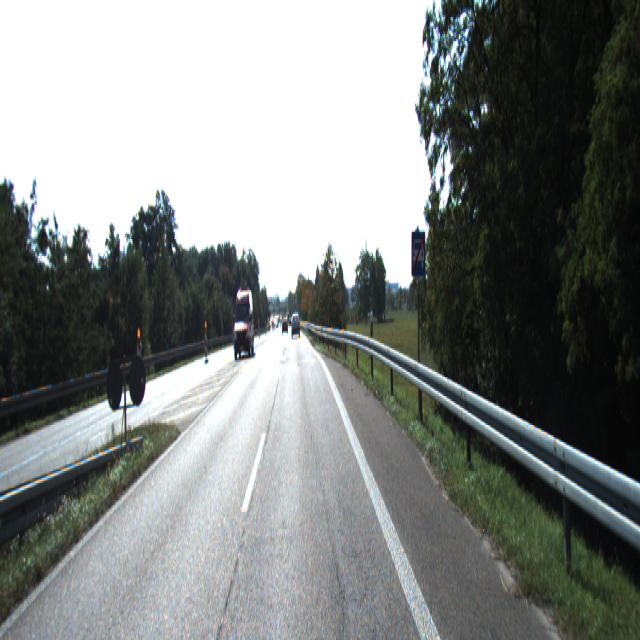Car: (232, 290, 254, 364), (291, 314, 300, 336)
